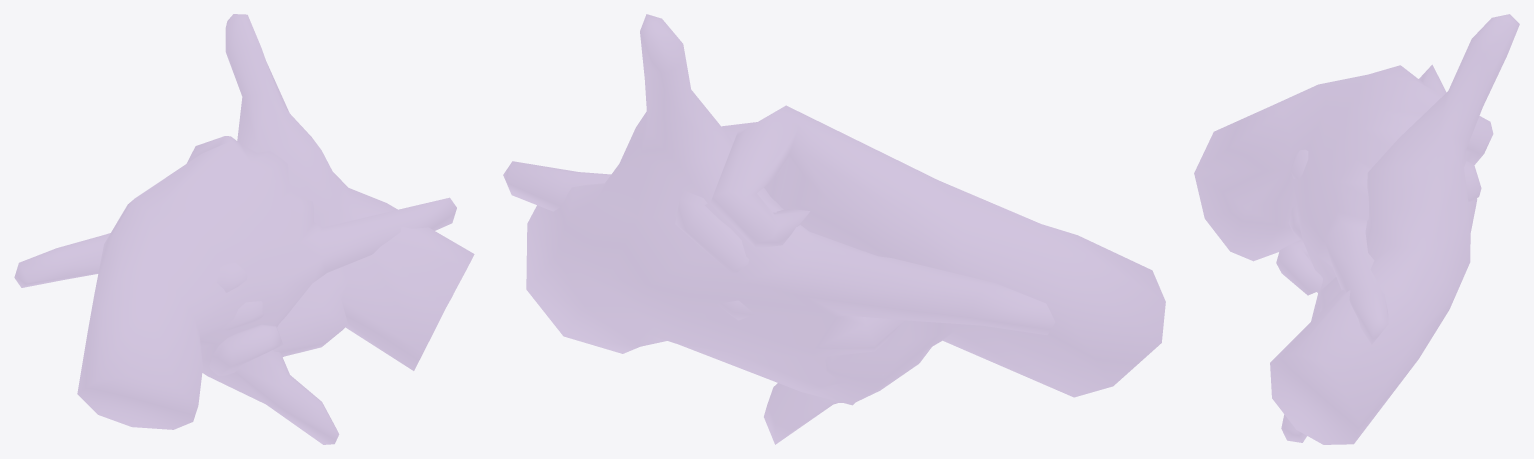
The model's file is hands.glb.
3 views of the same model, side by side, from view 1: azimuth 30°, elevation 25°; view 2: azimuth 150°, elevation 25°; view 3: azimuth 270°, elevation 25° (orthographic). The views are drawn at different scales.
Visible parts, largest first — view 1: Hand_L, Hand_R; view 2: Hand_R, Hand_L; view 3: Hand_R, Hand_L.
Part boxes in pixels (x1,y1,x2,y2): Hand_L: (77,136,456,444); Hand_R: (14,14,474,375); Hand_R: (526,14,1055,405); Hand_L: (503,105,1165,444); Hand_R: (1270,14,1519,444); Hand_L: (1194,65,1493,442).
Bounding box in the file's own units: 0.8884 × 0.7331 × 0.5043.
